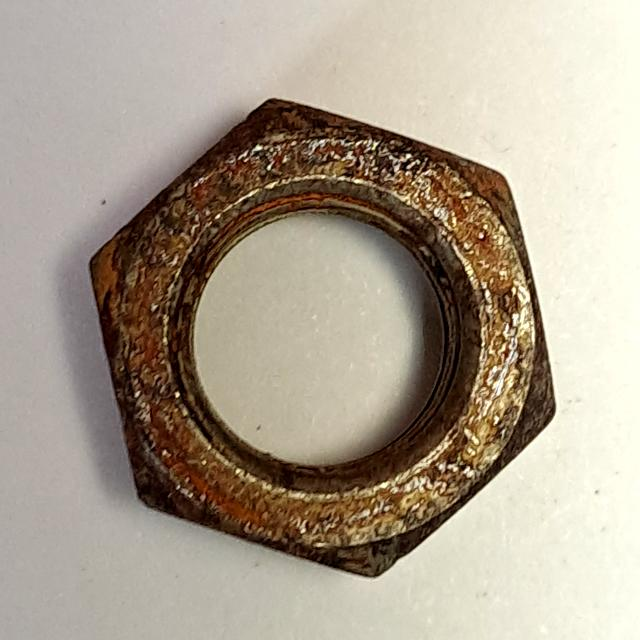Rust: (72, 85, 577, 607)
